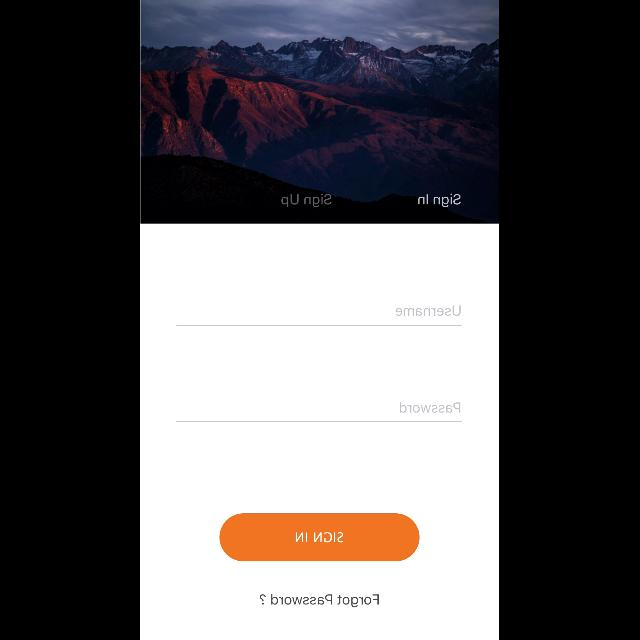image: (140, 0, 500, 224)
input: (176, 306, 462, 326)
text: (176, 402, 462, 422), (260, 594, 380, 608), (418, 192, 462, 208), (282, 194, 332, 208), (396, 306, 462, 316), (401, 402, 462, 412)
textbutton: (220, 513, 420, 561)
